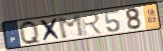5: (103, 9, 122, 33)
8: (125, 7, 143, 31)
M: (56, 14, 87, 41)
Q: (18, 20, 43, 46)
R: (80, 12, 105, 37)
X: (39, 17, 63, 44)
